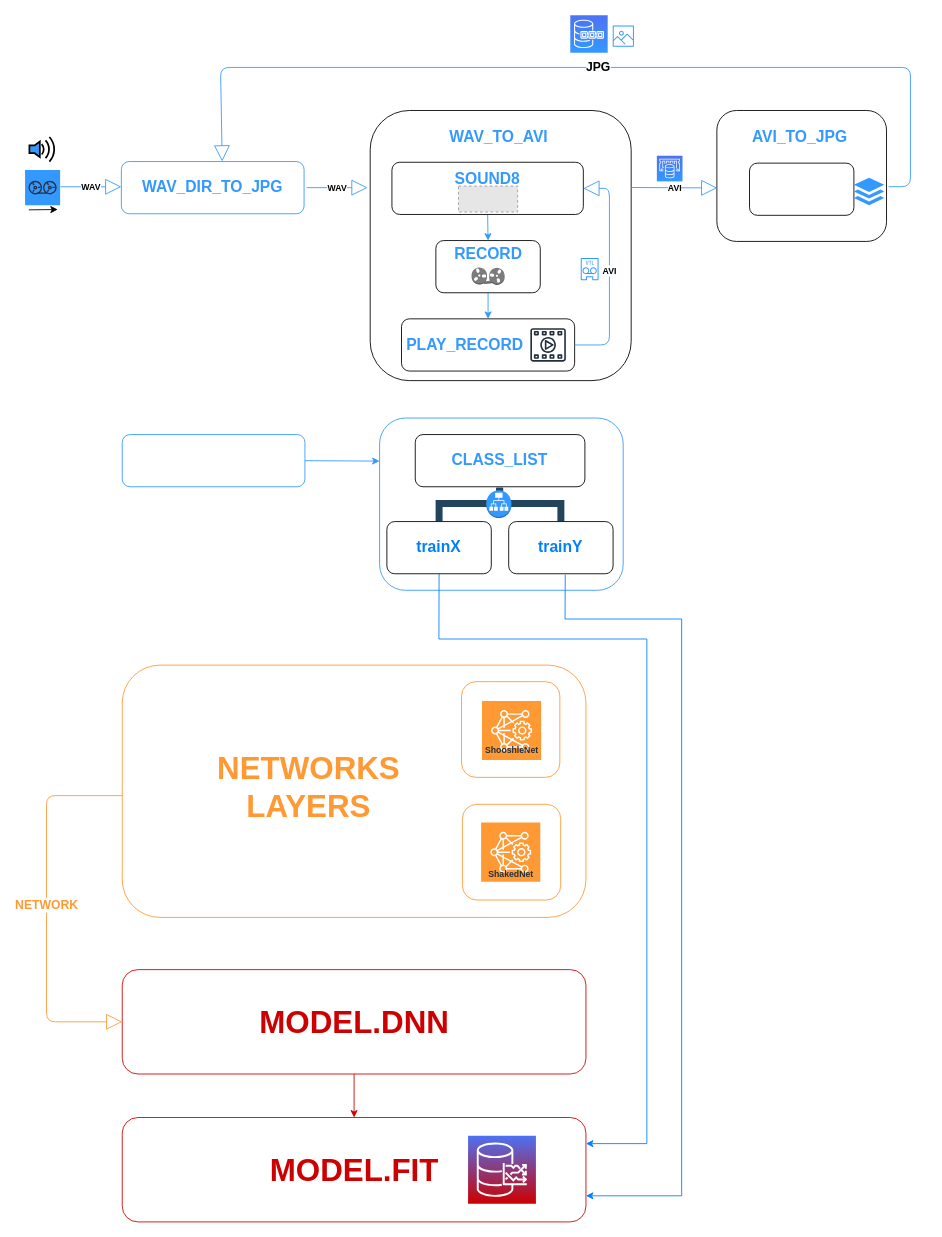
Image size: 942x1237. Some labels were removed from this diagram. Grey dashed boxes stand in for pictures. The centre of each missing label's shape, as x and y in pixels:
"GetFrame" belongs at point (801, 188).
"LOAD_DATA" belongs at point (213, 460).
"wav storage" belongs at point (42, 187).
